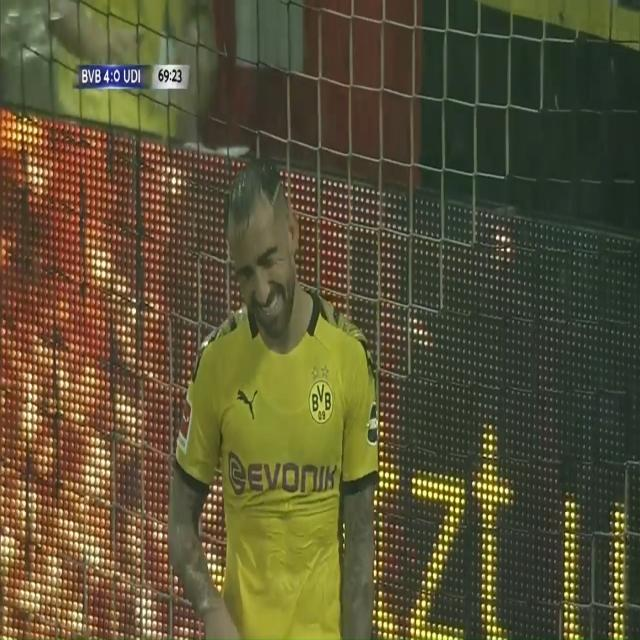player: (174, 160, 397, 640)
